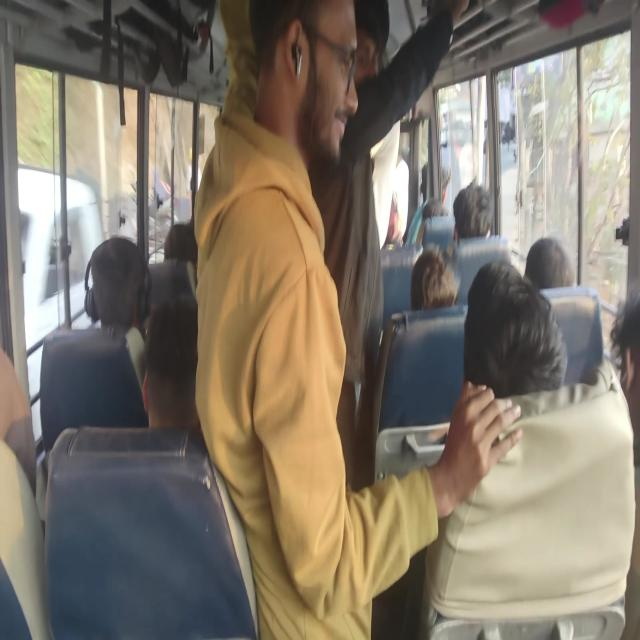person: (253, 0, 353, 169), (488, 269, 582, 416), (141, 296, 224, 438), (0, 347, 41, 574), (87, 230, 147, 330), (337, 0, 385, 109), (167, 222, 222, 312), (400, 244, 455, 317), (606, 307, 640, 398), (519, 238, 572, 296), (452, 184, 498, 244), (419, 168, 452, 198)
